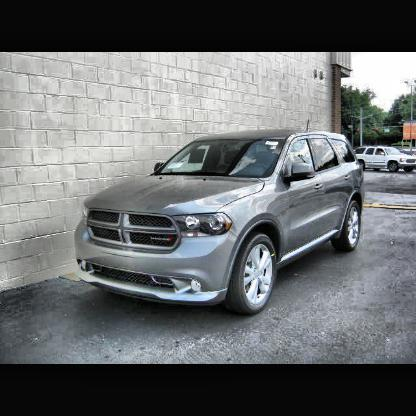Dodge Durango SUV 2012: (75, 123, 365, 318)
